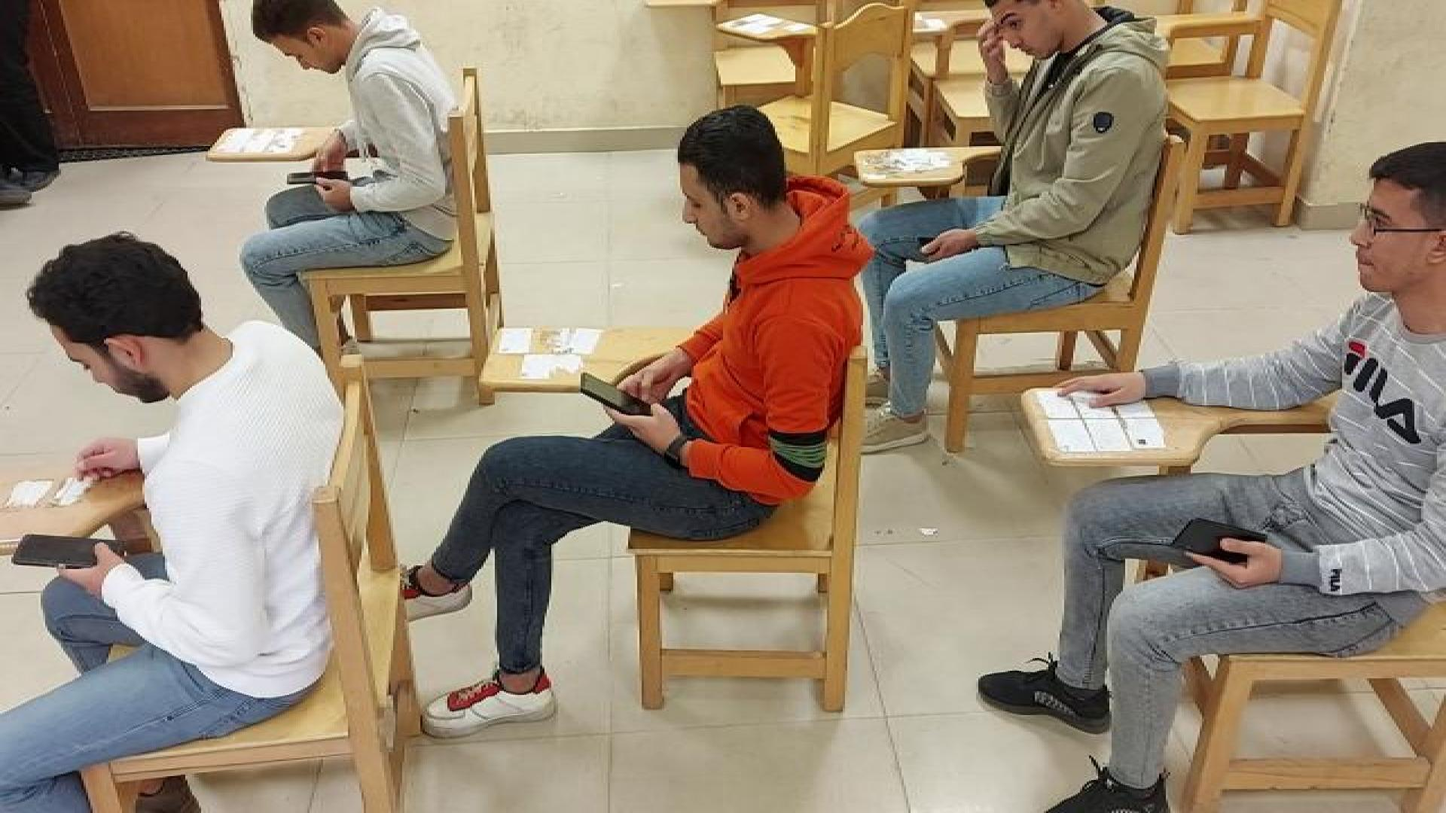phone: (10, 533, 116, 566), (1171, 520, 1257, 555), (582, 374, 650, 413), (287, 171, 343, 186)
